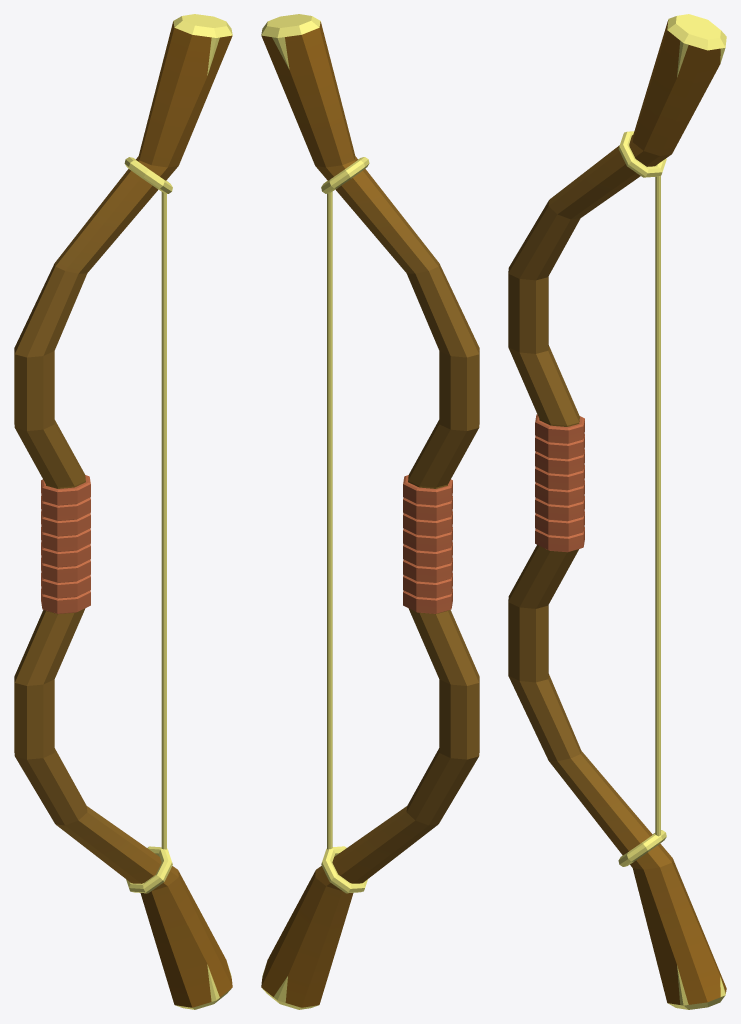
File: bow_2.glb
The picture shows the model from 3 angles, left to right: view 1: azimuth 30°, elevation 25°; view 2: azimuth 150°, elevation 25°; view 3: azimuth 330°, elevation 25°; orthographic projection.
Visible parts, largest first — view 1: bow_2; view 2: bow_2; view 3: bow_2.
Part boxes in pixels (x1=…): bow_2: x1=14, y1=14, x2=232, y2=1009; bow_2: x1=261, y1=14, x2=479, y2=1009; bow_2: x1=508, y1=14, x2=726, y2=1009.
Bounding box in the file's own units: 0.2192 × 0.954 × 0.05.
1 material, 1 textured.
